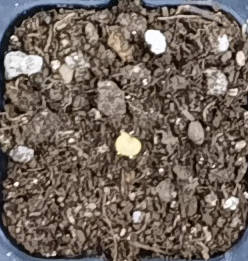pepper seed: (41, 52, 184, 210)
